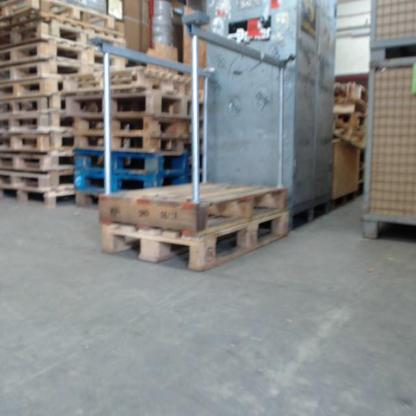pallet: (101, 207, 290, 274), (97, 183, 290, 238), (0, 4, 115, 30), (73, 115, 189, 137), (1, 47, 124, 67), (70, 97, 193, 116), (78, 171, 189, 192), (78, 151, 189, 171), (0, 32, 126, 47), (2, 67, 108, 82), (78, 137, 189, 151), (2, 84, 98, 99), (0, 136, 72, 155), (2, 99, 66, 119), (1, 116, 72, 134), (1, 174, 72, 192), (3, 194, 75, 210), (2, 156, 73, 172), (333, 119, 366, 152), (78, 192, 103, 208)
stillage: (356, 53, 416, 240), (360, 0, 416, 62)
